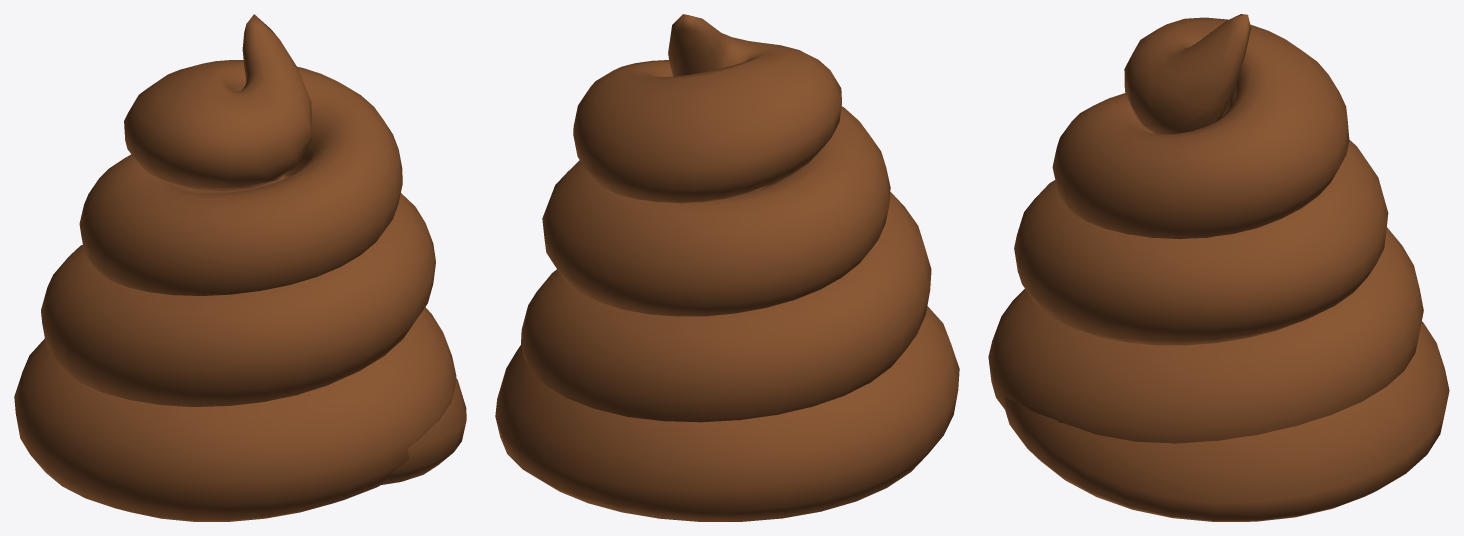
3 renders of one model, left to right at view 1: azimuth 30°, elevation 25°; view 2: azimuth 150°, elevation 25°; view 3: azimuth 270°, elevation 25°, orthographic. The views are drawn at different scales.
Parts seen in each view (by area): view 1: poop; view 2: poop; view 3: poop.
Boxes of the visible parts, x1=… form: poop: x1=14, y1=14, x2=466, y2=521; poop: x1=495, y1=14, x2=959, y2=521; poop: x1=988, y1=14, x2=1449, y2=521.
Size of the model in its own units: 0.4748 by 0.4885 by 0.4702.
